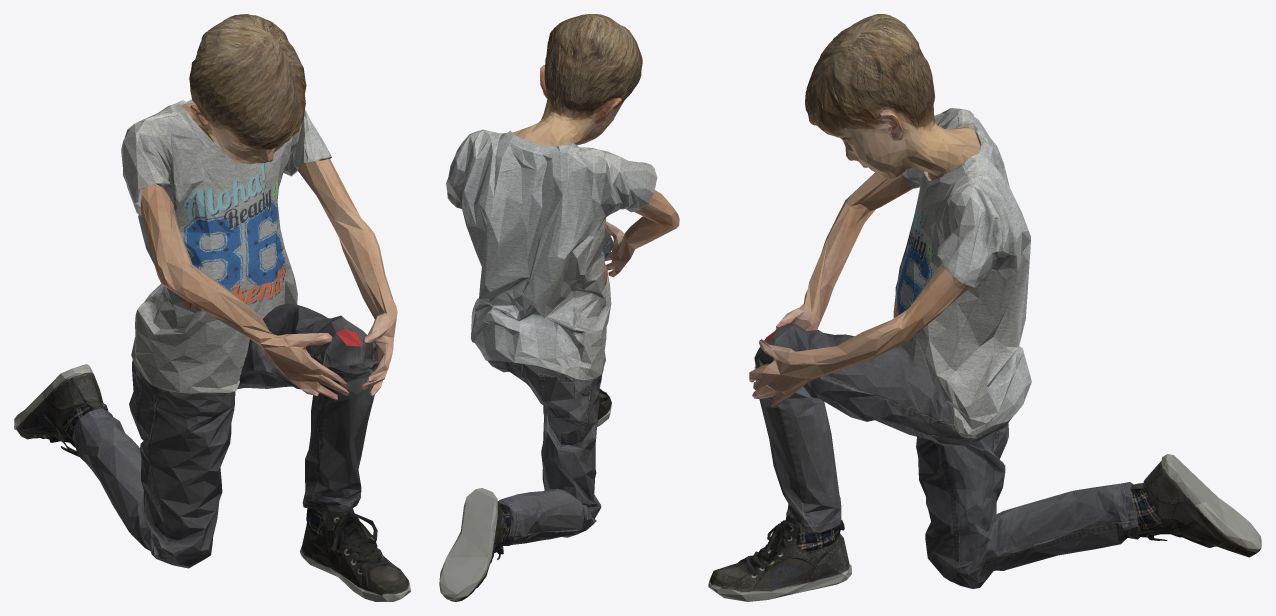
The model's file is wound_kid.fbx.
The picture shows the model from 3 angles, left to right: view 1: azimuth 30°, elevation 25°; view 2: azimuth 150°, elevation 25°; view 3: azimuth 270°, elevation 25°; orthographic projection. The views are drawn at different scales.
Parts seen in each view (by area): view 1: Kid; view 2: Kid; view 3: Kid.
Boxes of the visible parts, x1=… form: Kid: x1=14, y1=14, x2=410, y2=601; Kid: x1=439, y1=14, x2=679, y2=601; Kid: x1=708, y1=14, x2=1261, y2=601.
Size of the model in its own units: 73.34 by 177 by 155.
